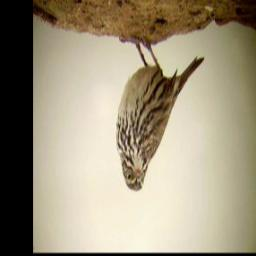Sparrow: (115, 35, 206, 193)
